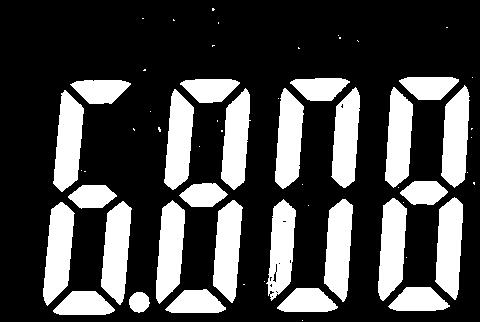0: (266, 80, 361, 313)
6: (42, 80, 133, 320)
8: (374, 74, 474, 316), (153, 77, 253, 316)
dot: (129, 290, 150, 314)
